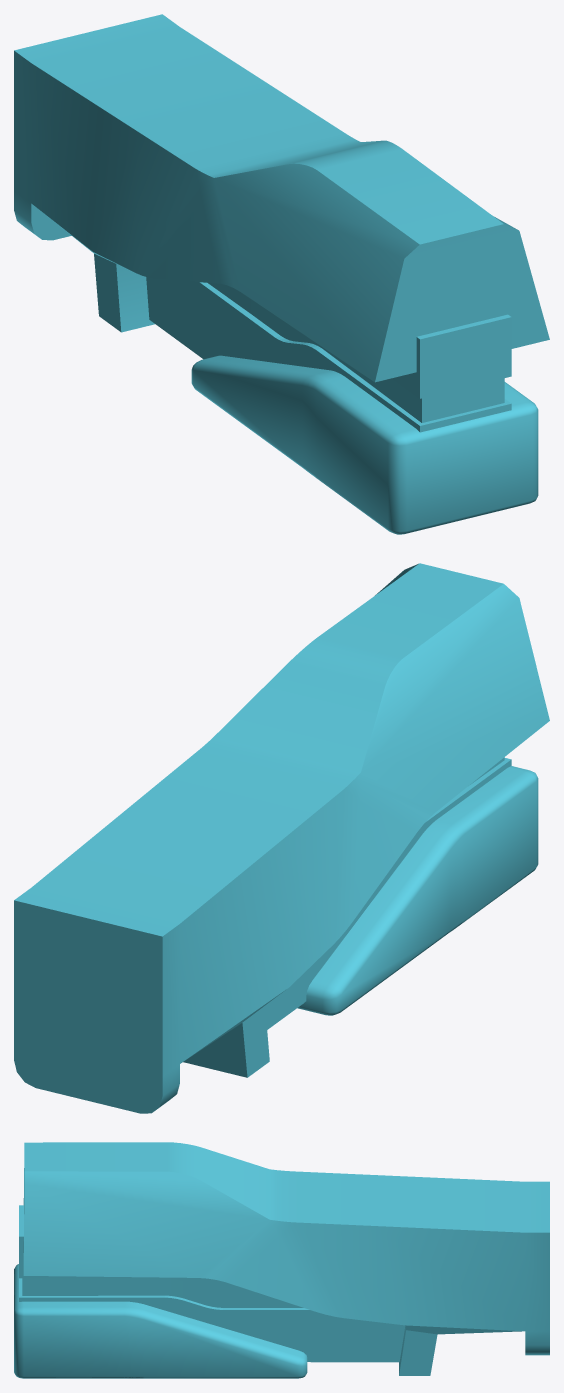
Rendered from part_body_06.fbx.
3 views of the same model, one above another, from view 1: azimuth 30°, elevation 25°; view 2: azimuth 150°, elevation 25°; view 3: azimuth 270°, elevation 25° (orthographic). The views are drawn at different scales.
Parts seen in each view (by area): view 1: part_body_06; view 2: part_body_06; view 3: part_body_06.
Part boxes in pixels (x1,y1,x2,y2): part_body_06: [14, 14, 549, 534]; part_body_06: [14, 563, 549, 1113]; part_body_06: [14, 1142, 549, 1378].
Size of the model in its own units: 7.95 by 10.92 by 26.66.
